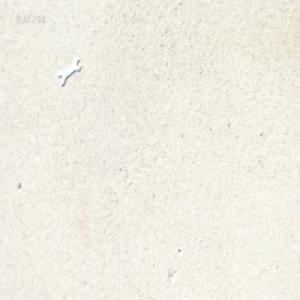Wrench: (58, 55, 81, 86)
